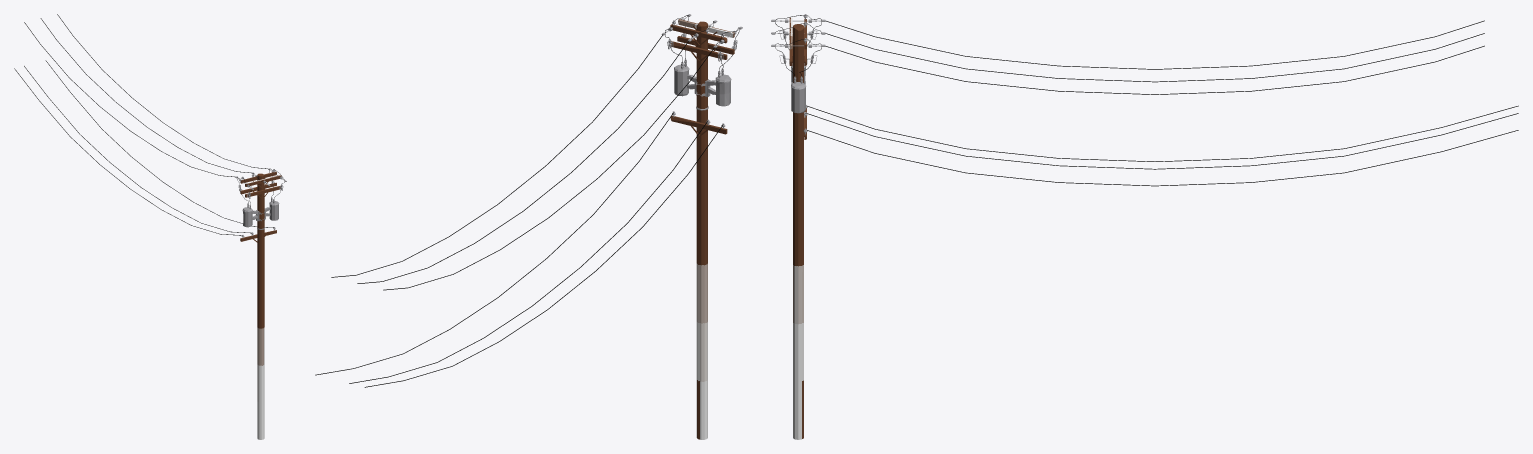
The model's file is UtillityPole_01.fbx.
3 views of the same model, side by side, from view 1: azimuth 30°, elevation 25°; view 2: azimuth 150°, elevation 25°; view 3: azimuth 270°, elevation 25° (orthographic). The views are drawn at different scales.
Parts seen in each view (by area): view 1: SM_UtilityPole_01_.mo; view 2: SM_UtilityPole_01_.mo; view 3: SM_UtilityPole_01_.mo.
Part boxes in pixels (x1=…): SM_UtilityPole_01_.mo: x1=14, y1=14, x2=286, y2=439; SM_UtilityPole_01_.mo: x1=315, y1=14, x2=742, y2=439; SM_UtilityPole_01_.mo: x1=771, y1=14, x2=1518, y2=439.
Bounding box in the file's own units: 117 × 827 × 1363.
